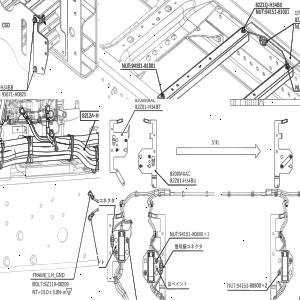PartNumber: (44, 280, 70, 288), (135, 102, 161, 110), (255, 1, 283, 8), (131, 62, 156, 69), (170, 177, 197, 183), (236, 282, 262, 288), (2, 92, 26, 98), (265, 9, 289, 15), (179, 231, 203, 237), (81, 112, 99, 118), (0, 84, 13, 89)
